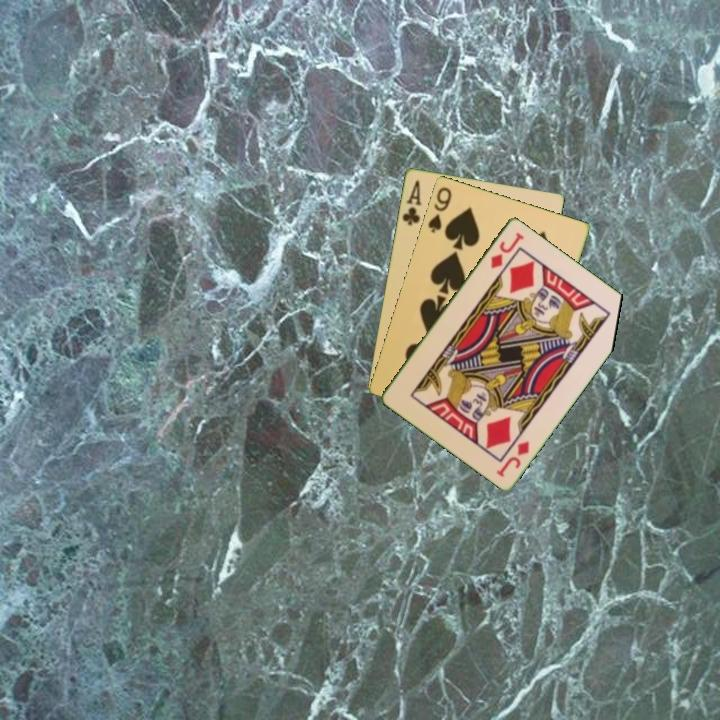9s: (424, 183, 454, 235)
Ac: (398, 176, 424, 228)
Jd: (487, 228, 527, 271), (493, 437, 532, 480)
